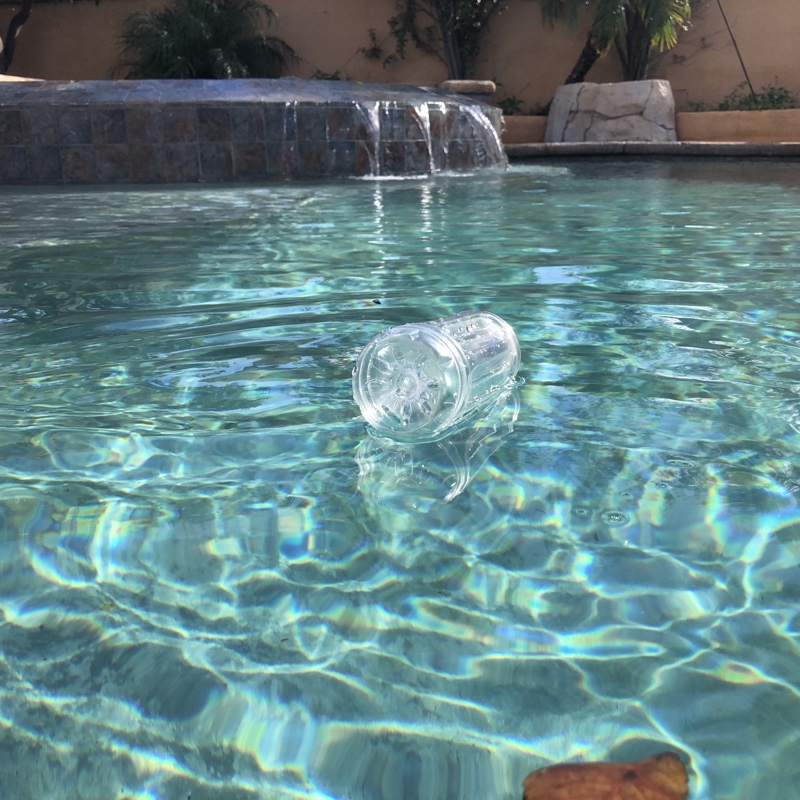Plastic Bottle: (352, 309, 523, 441)
